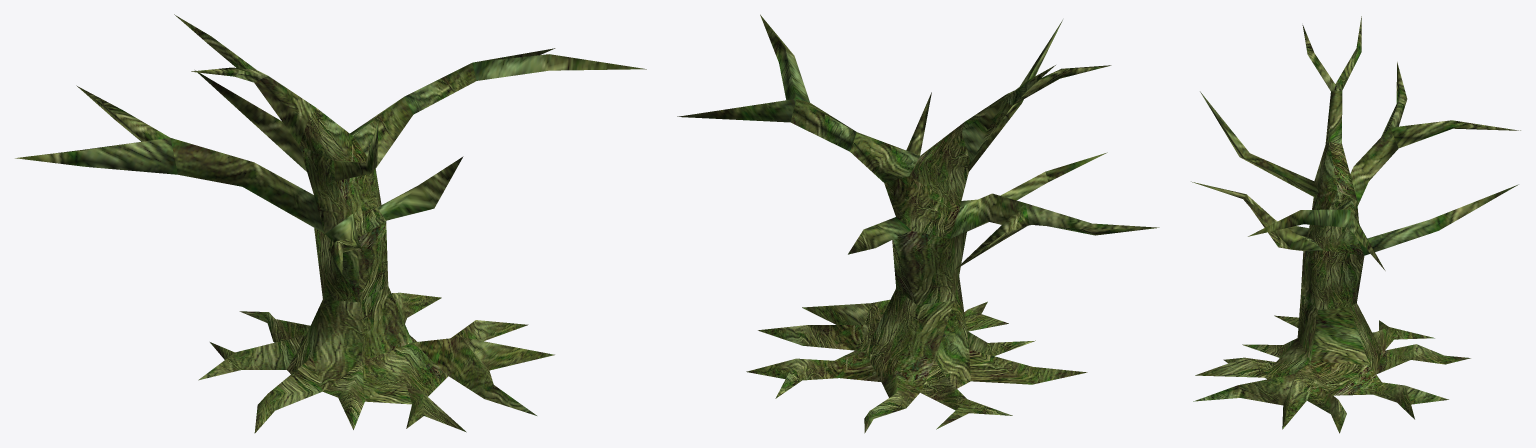
Rendered from fxmg_shugan7.FBX.
3 renders of one model, left to right at view 1: azimuth 30°, elevation 25°; view 2: azimuth 150°, elevation 25°; view 3: azimuth 270°, elevation 25°, orthographic. The views are drawn at different scales.
Parts seen in each view (by area): view 1: KLMSM_shugan7; view 2: KLMSM_shugan7; view 3: KLMSM_shugan7.
Boxes of the visible parts, x1,y1,x2,y2 form: KLMSM_shugan7: [15, 14, 646, 433]; KLMSM_shugan7: [677, 14, 1159, 433]; KLMSM_shugan7: [1191, 16, 1520, 433].
Size of the model in its own units: 1442 by 988 by 1015.
